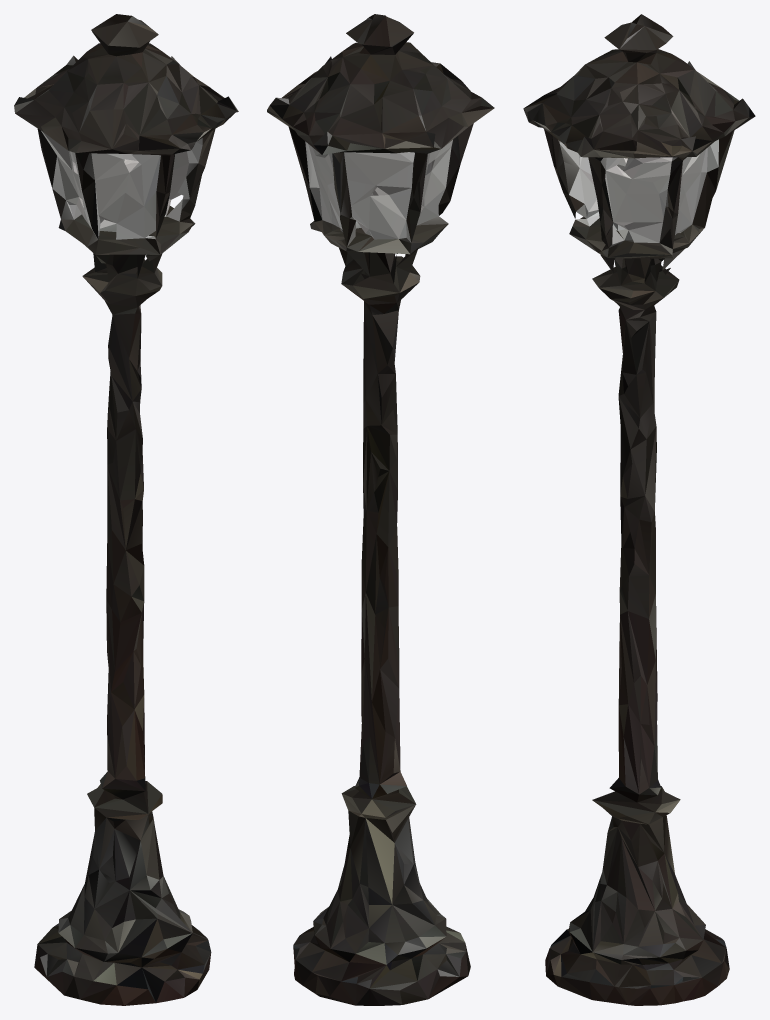
File: lamp.glb
3 views of the same model, side by side, from view 1: azimuth 30°, elevation 25°; view 2: azimuth 150°, elevation 25°; view 3: azimuth 270°, elevation 25° (orthographic).
Visible parts, largest first — view 1: lamp; view 2: lamp; view 3: lamp.
Part boxes in pixels (<box>): lamp: <box>14,14,238,1005</box>; lamp: <box>267,14,494,1005</box>; lamp: <box>523,14,755,1005</box>.
Size of the model in its own units: 0.1834 by 0.9747 by 0.2153.
1 material, 1 textured.
